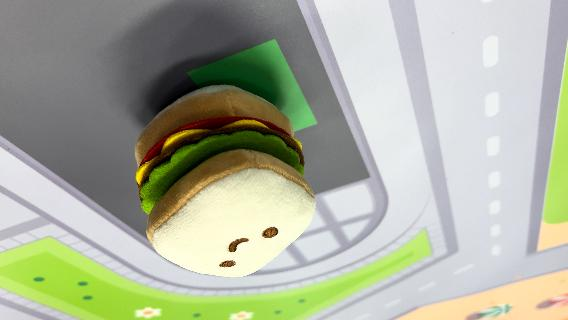sandwich: (132, 82, 319, 278)
